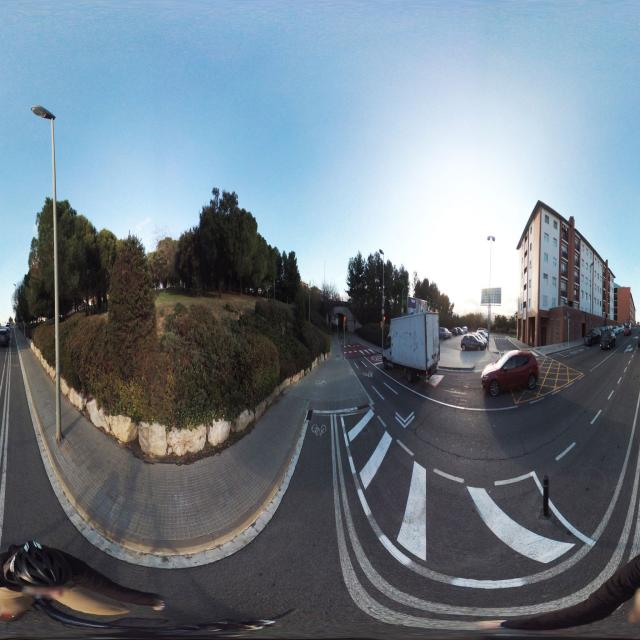car: (481, 350, 540, 397), (600, 325, 616, 351), (460, 332, 480, 352), (585, 326, 602, 346), (0, 322, 10, 350), (476, 331, 488, 350), (439, 326, 452, 340), (623, 322, 632, 336)
